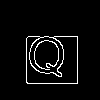Q: (25, 25, 69, 78)
